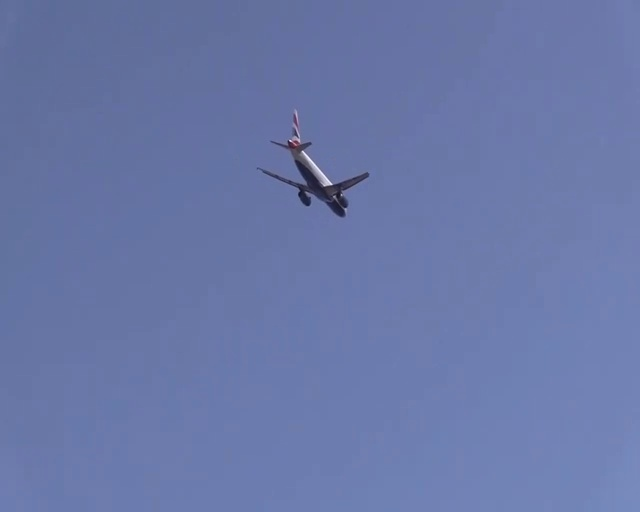AIRPLANE: (256, 107, 370, 217)
